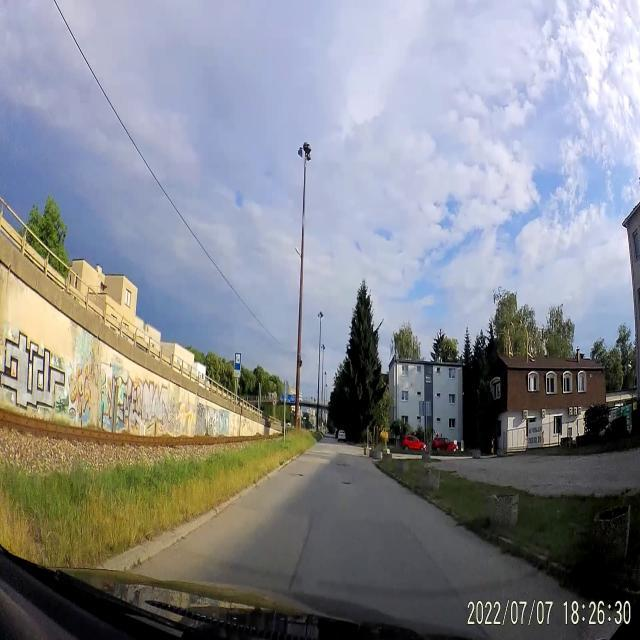Pothole: (284, 469, 308, 480), (334, 458, 351, 471), (338, 478, 356, 488)
